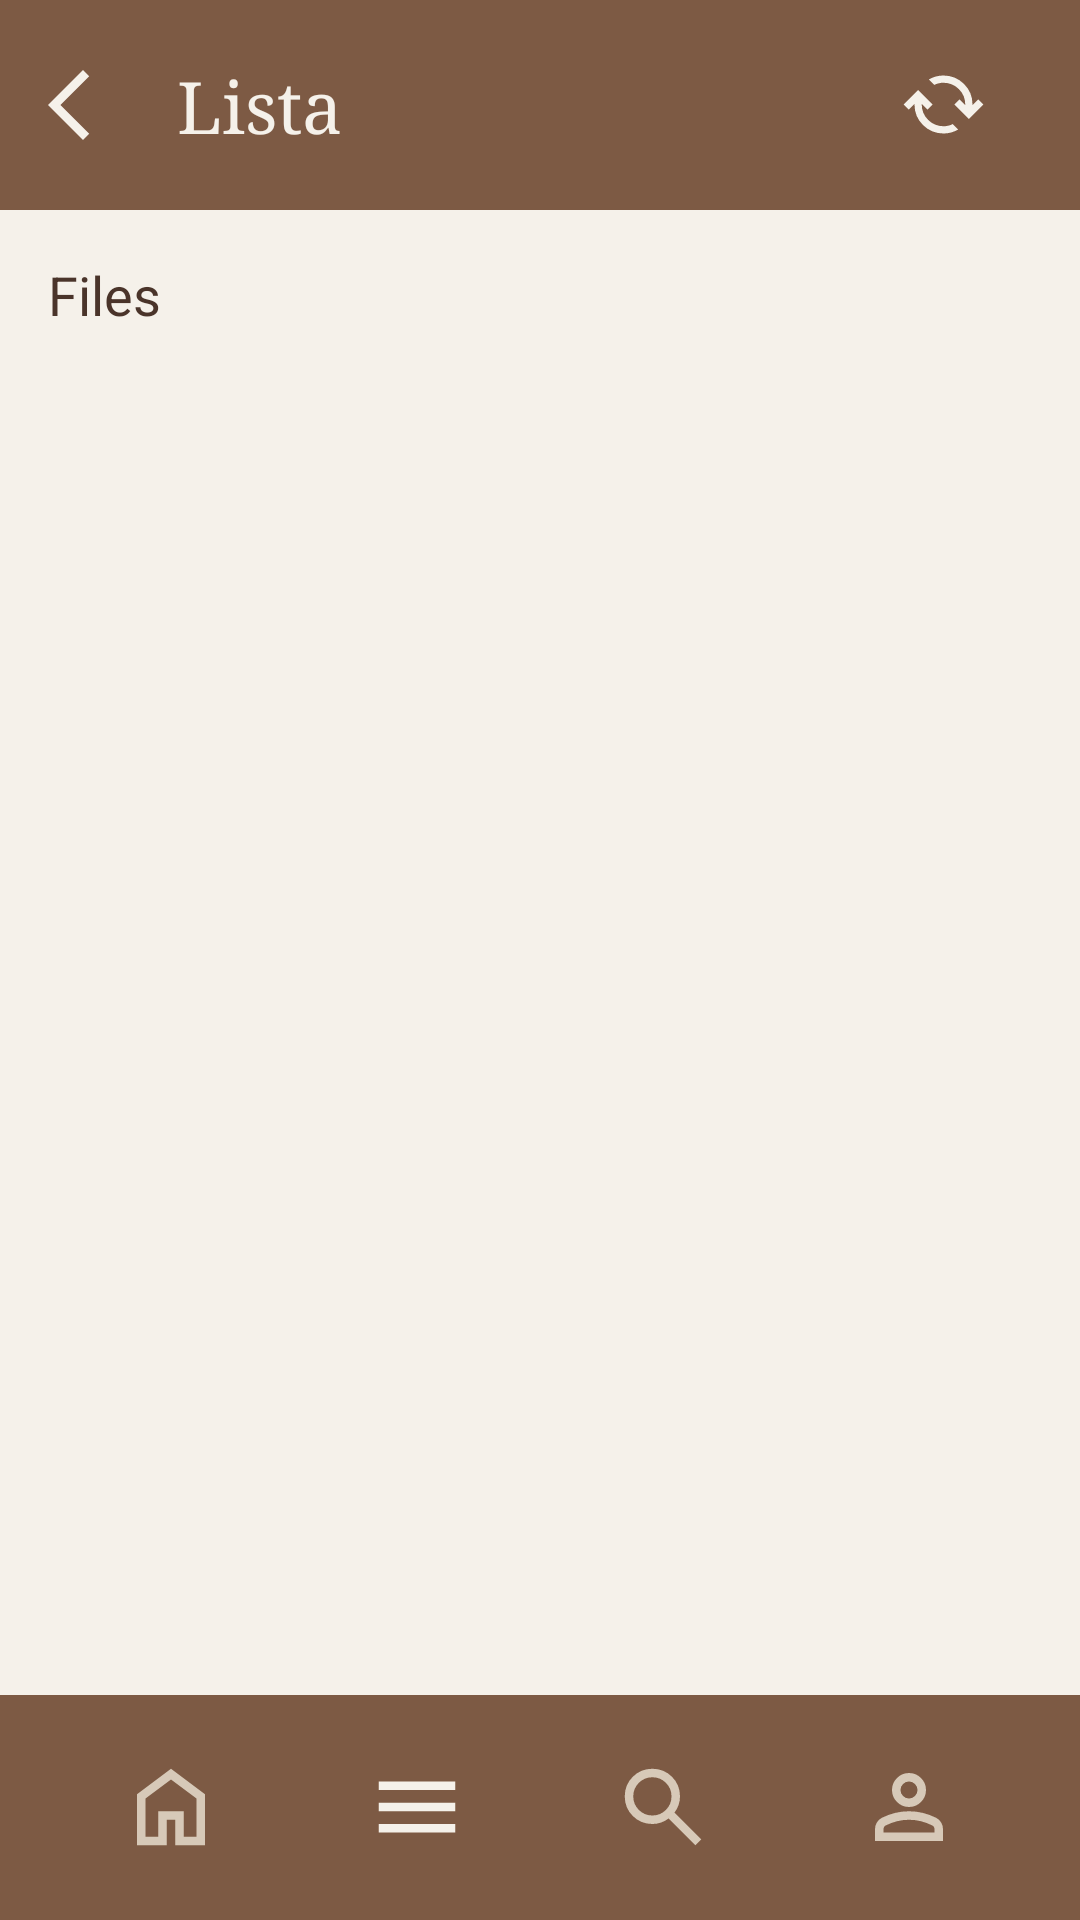

Named icons in this screenshot (1080w x 1920h) and their centers, point (x, y):
flecha left: point (68, 105)
home: point (171, 1807)
lista: point (417, 1807)
lupa: point (662, 1806)
perfil: point (909, 1807)
refresh: point (943, 104)
